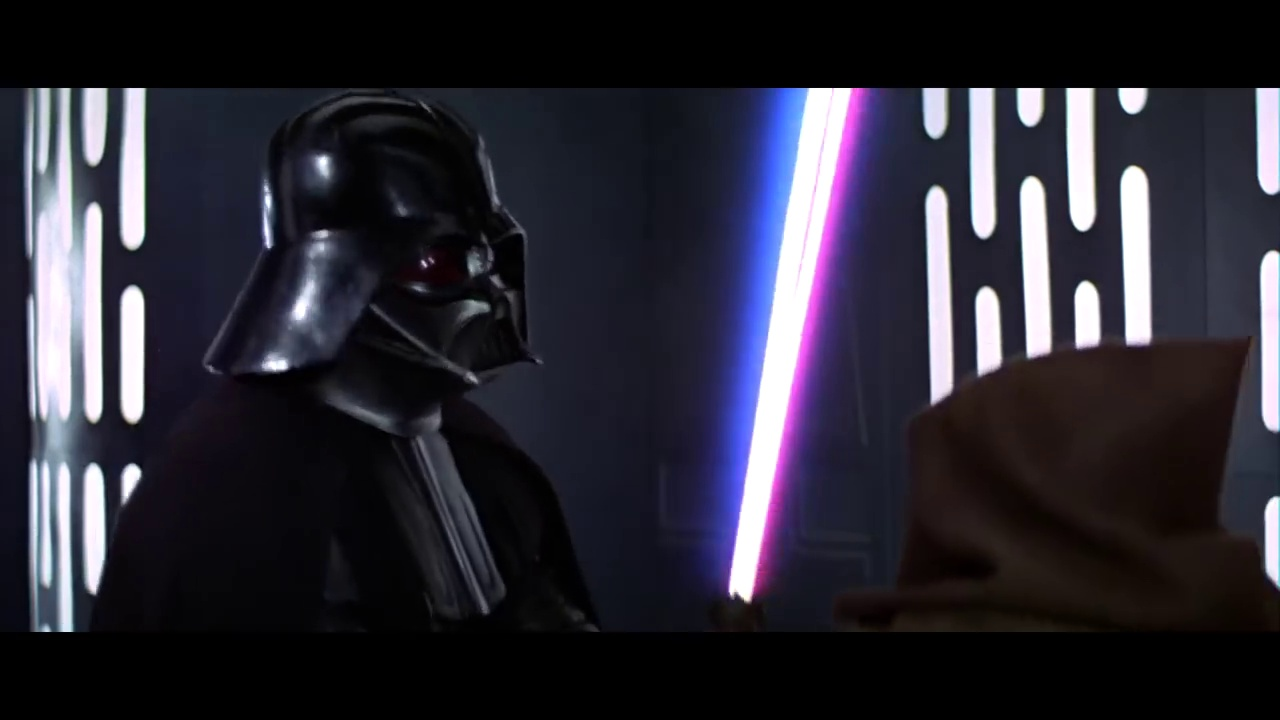lightsaber: (712, 85, 859, 635)
